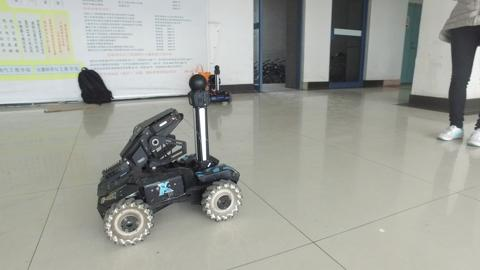bag: (69, 63, 119, 112)
chariot: (90, 72, 247, 250)
